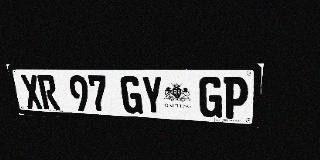7: (86, 75, 110, 113)
9: (68, 75, 91, 112)
G: (199, 76, 223, 118), (120, 75, 143, 114)
P: (222, 76, 249, 119)
R: (37, 75, 60, 110)
X: (20, 75, 43, 109)
Y: (141, 76, 164, 115)
